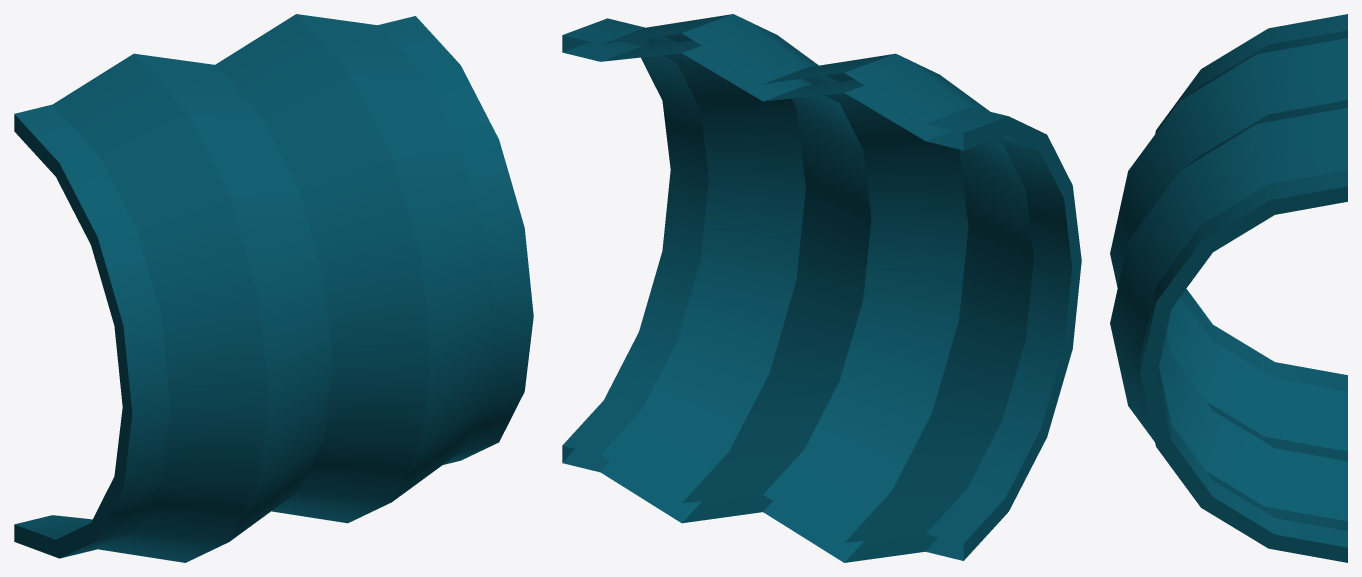
Rendered from Modulo1_Entrada_Blockout_Covertura.FBX.
The picture shows the model from 3 angles, left to right: view 1: azimuth 30°, elevation 25°; view 2: azimuth 150°, elevation 25°; view 3: azimuth 270°, elevation 25°; orthographic projection. The views are drawn at different scales.
Visible parts, largest first — view 1: Tubo_Modulo1_Covertura; view 2: Tubo_Modulo1_Covertura; view 3: Tubo_Modulo1_Covertura.
Part boxes in pixels (x1=…): Tubo_Modulo1_Covertura: x1=14, y1=14, x2=533, y2=562; Tubo_Modulo1_Covertura: x1=562, y1=14, x2=1081, y2=562; Tubo_Modulo1_Covertura: x1=1110, y1=14, x2=1347, y2=562.
Size of the model in its own units: 94.76 by 111 by 55.26.
